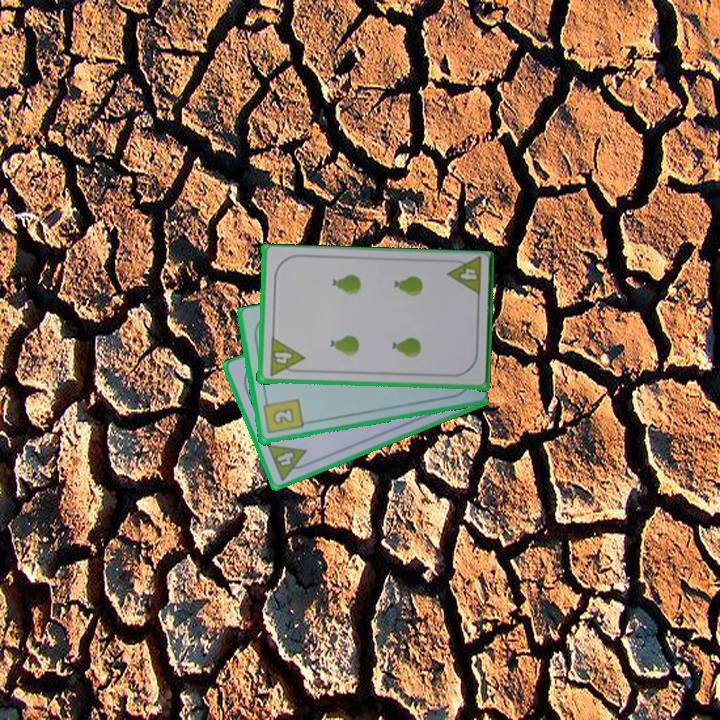2b: (259, 395, 306, 437)
4p: (264, 441, 314, 483), (443, 255, 485, 300), (265, 335, 306, 379)
